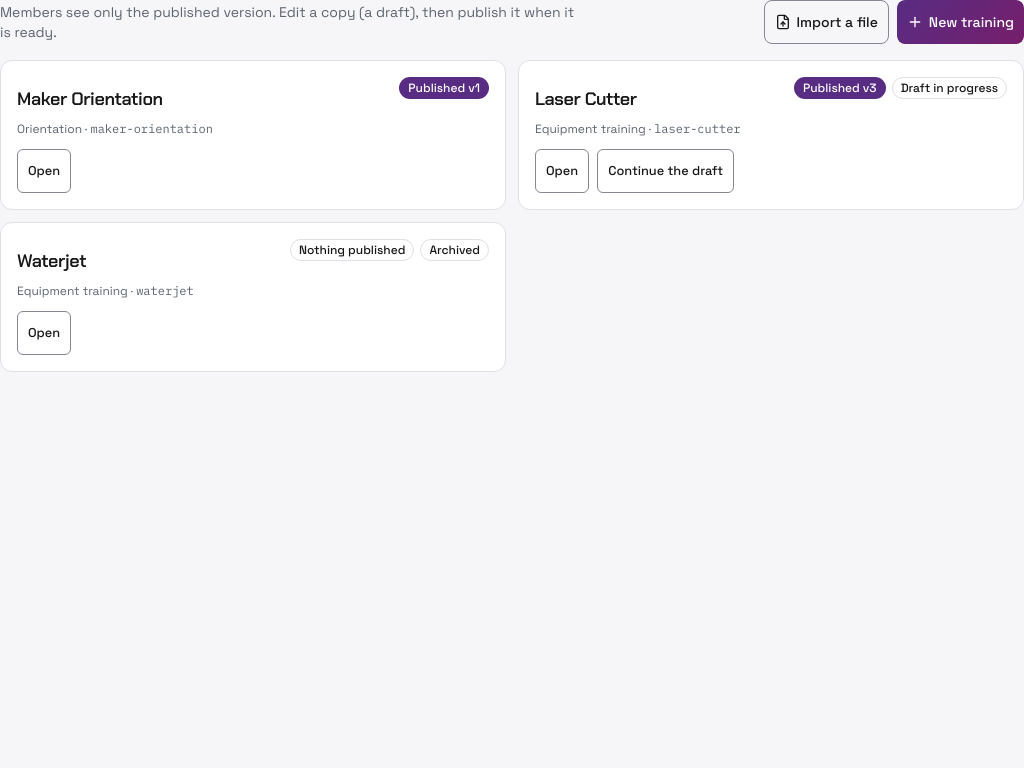
Test case: TrainingsList creating a training › needs a group for an equipment training but not for an orientation
expect the heading "Laser Cutter" is shown: met, box left=535, top=87, right=637, bottom=111
Click the button "New training" at [960, 22], box left=897, top=0, right=1023, bottom=44
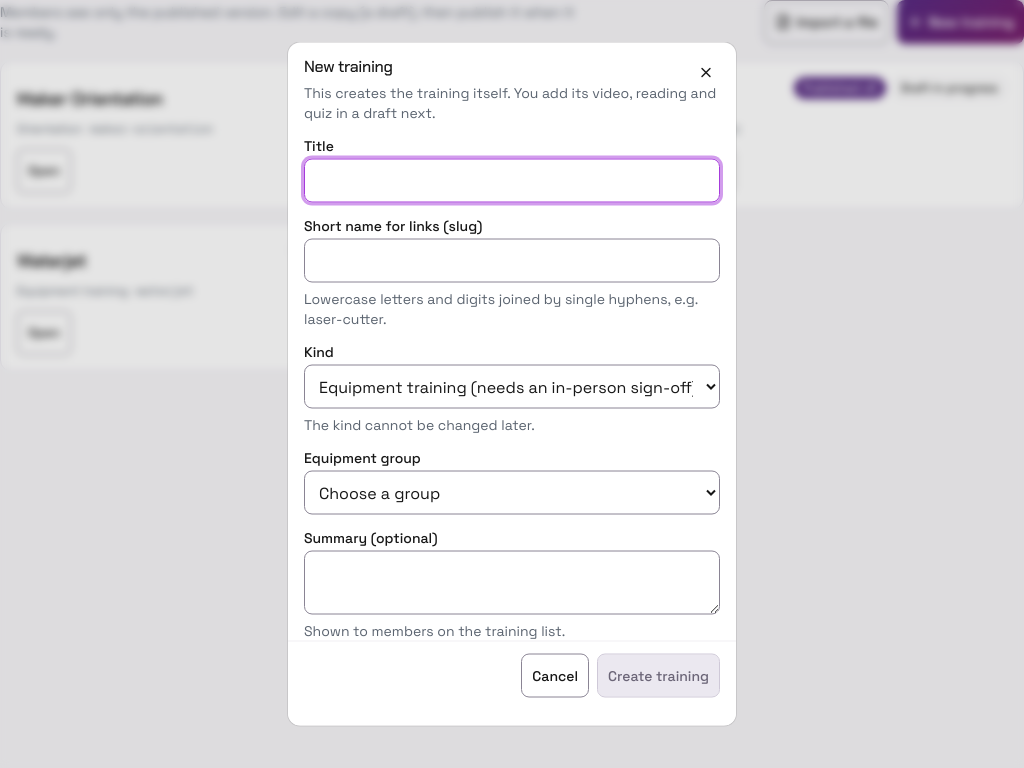
Type "Welcome" into the field labelled "Title" at [512, 180], box left=304, top=158, right=720, bottom=202
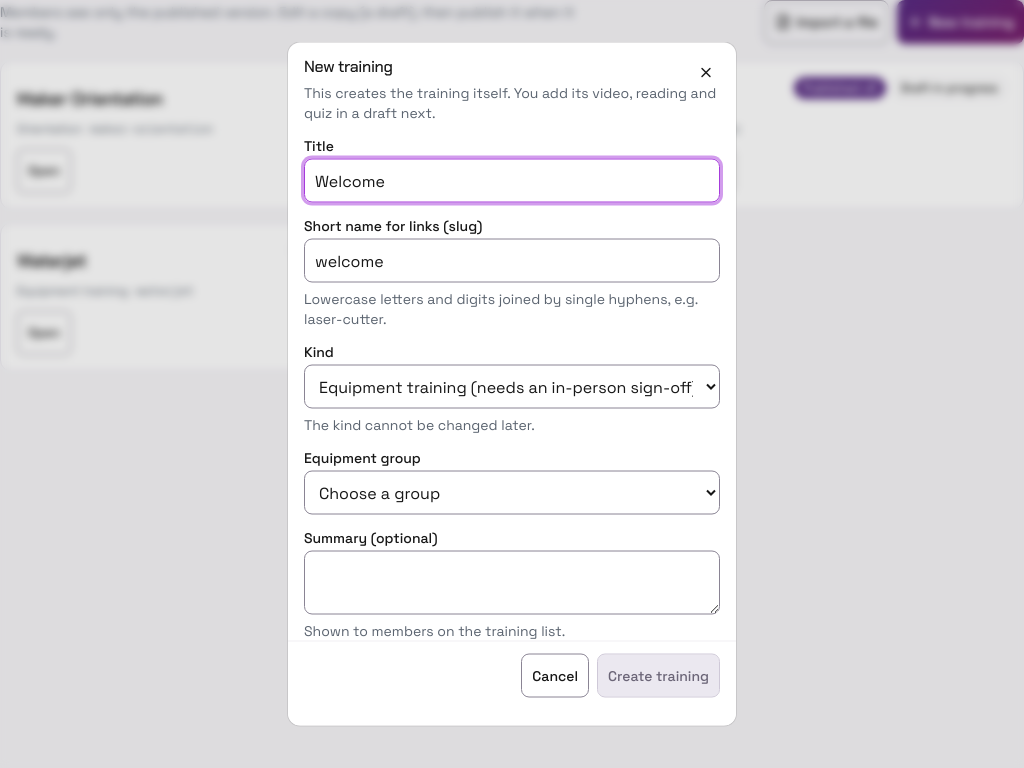
expect the button "Create training" is disabled: met, box left=597, top=654, right=720, bottom=698
Select "Orientation (fully online)" in the dropdown labelled "Kind" at [512, 386], box left=304, top=364, right=720, bottom=408
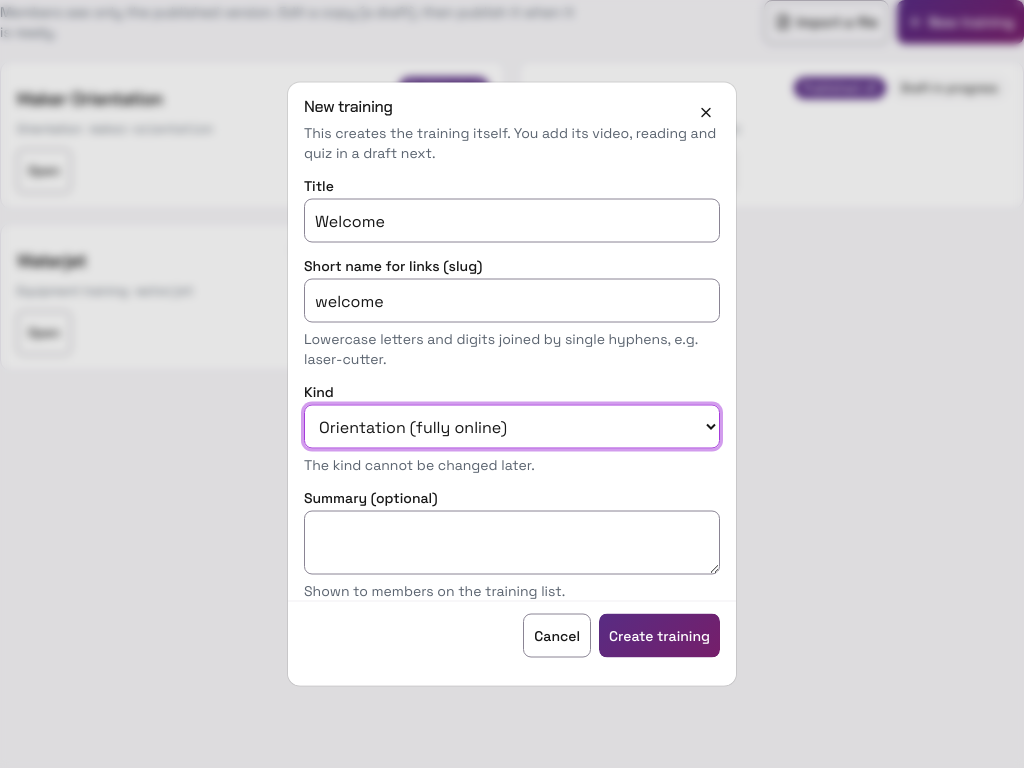
expect the label labelled "Equipment group" is gone: met
expect the button "Create training" is enabled: met, box left=599, top=614, right=720, bottom=658
